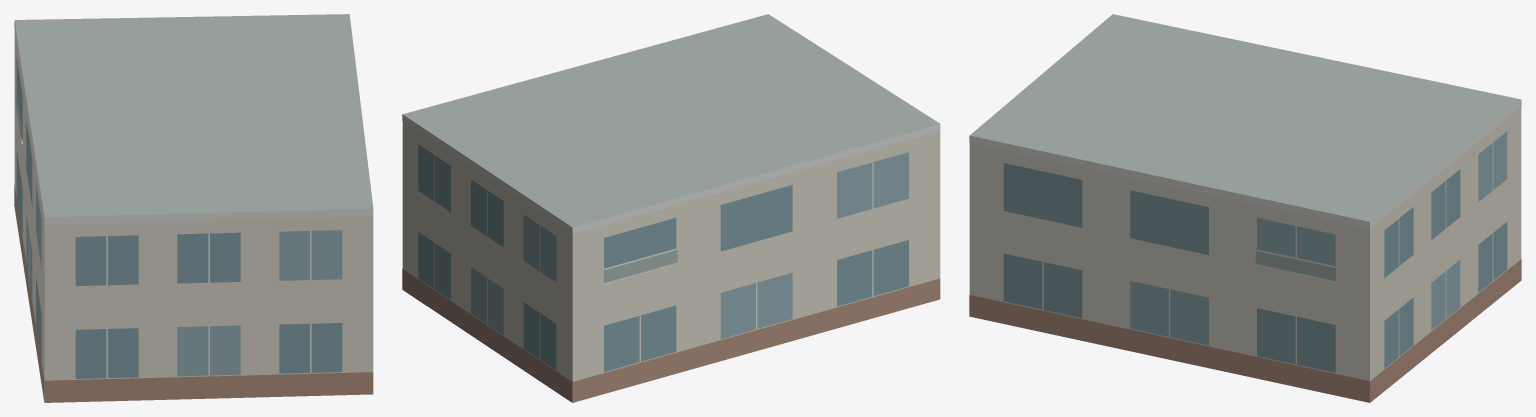
Rendered from survey-upis-32674153.glb.
The picture shows the model from 3 angles, left to right: view 1: azimuth 30°, elevation 25°; view 2: azimuth 150°, elevation 25°; view 3: azimuth 270°, elevation 25°; orthographic projection. The views are drawn at different scales.
Parts seen in each view (by area): view 1: survey-upis-32674153.tmp; view 2: survey-upis-32674153.tmp; view 3: survey-upis-32674153.tmp.
Boxes of the visible parts, x1=… form: survey-upis-32674153.tmp: x1=14, y1=14, x2=373, y2=402; survey-upis-32674153.tmp: x1=402, y1=14, x2=940, y2=402; survey-upis-32674153.tmp: x1=969, y1=14, x2=1521, y2=402.
Bounding box in the file's own units: 15.04 × 6.1 × 16.87.
